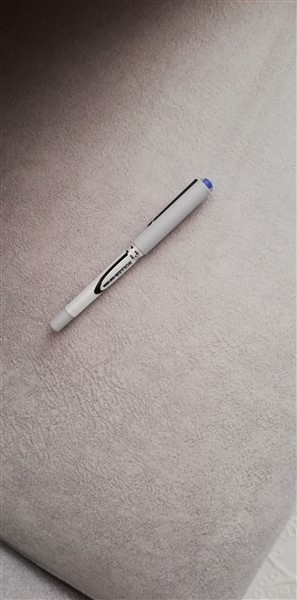pilot kalem: (44, 174, 216, 337)
